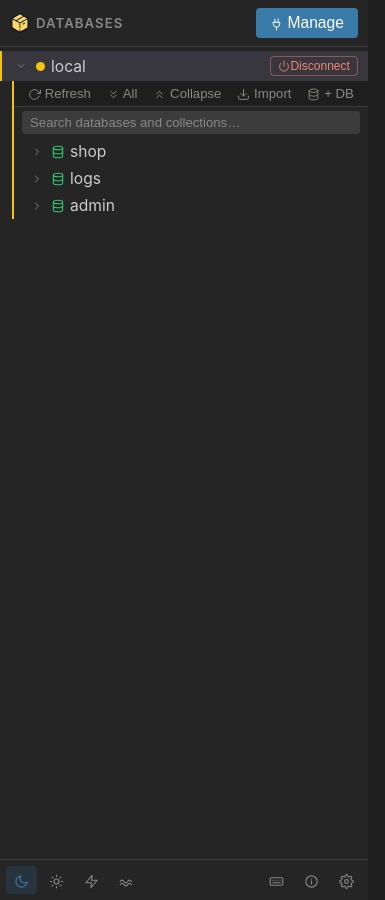
Test: Sidebar — collection search › still matches a database by its own name, without opening it
This screenshot has width=385, height=900.
Type "log" into the field with placeholder "Search databases and collections…".
click(191, 122); type("log")  # box top-left (22, 111), bottom-right (360, 134)
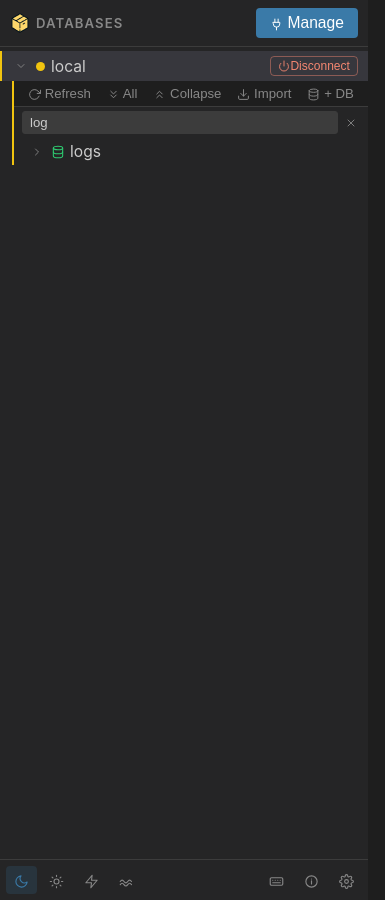
Check: the text "logs" is shown, box top-left (70, 142), bottom-right (101, 161)
Check: the text "shop" is gone
